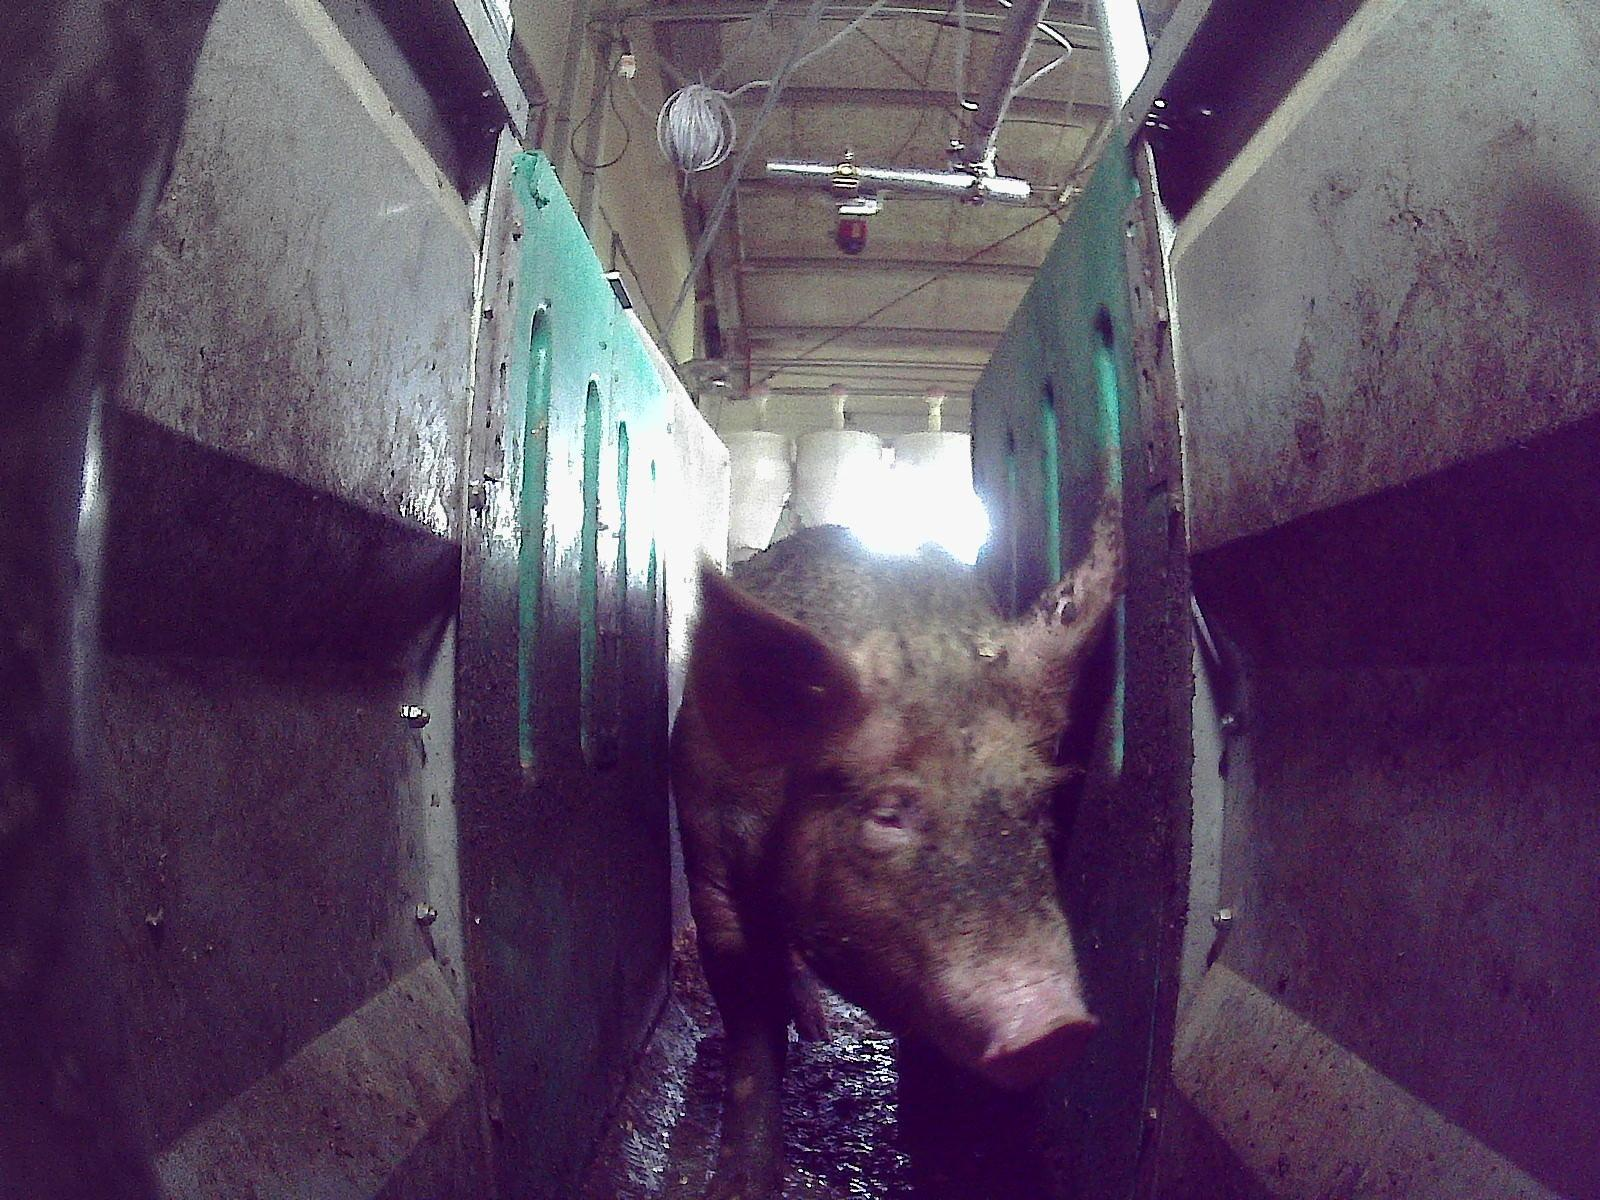Face: (771, 641, 1097, 1083)
